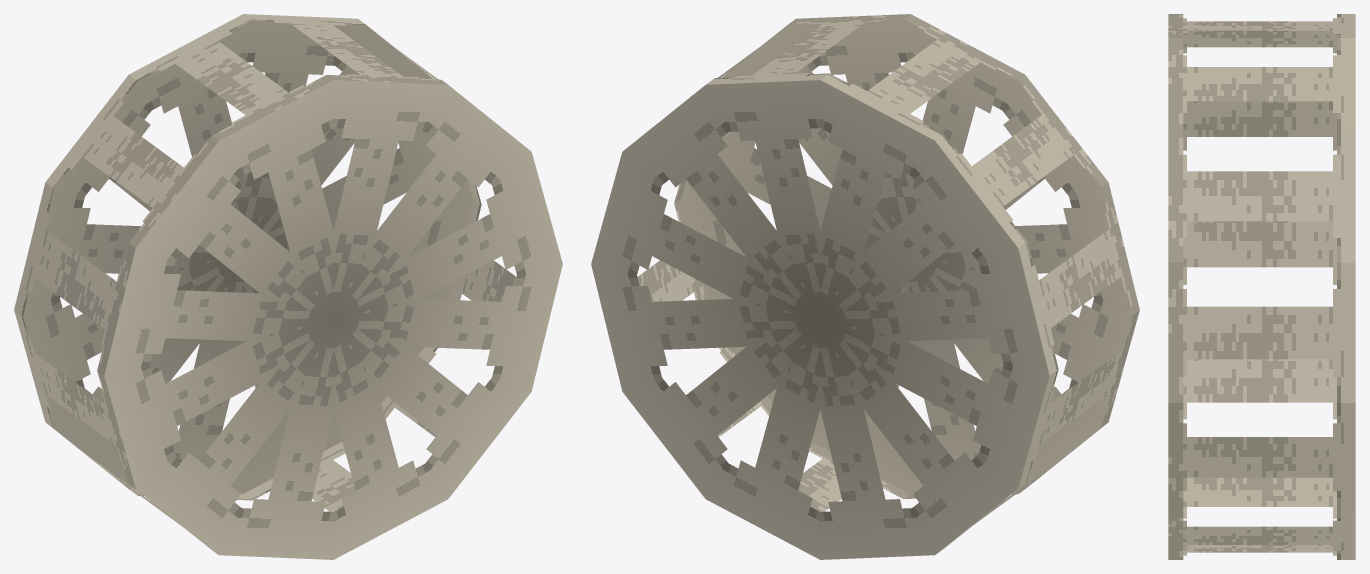
Rendered from uvmd-0020.glb.
The picture shows the model from 3 angles, left to right: view 1: azimuth 30°, elevation 25°; view 2: azimuth 150°, elevation 25°; view 3: azimuth 270°, elevation 25°; orthographic projection. The views are drawn at different scales.
Visible parts, largest first — view 1: uvmd-0020; view 2: uvmd-0020; view 3: uvmd-0020.
Part boxes in pixels (x1,y1,x2,y2): uvmd-0020: (14, 14, 562, 559); uvmd-0020: (591, 14, 1139, 559); uvmd-0020: (1168, 14, 1355, 559).
Bounding box in the file's own units: 88 × 88 × 30.
1 material, 1 textured.
